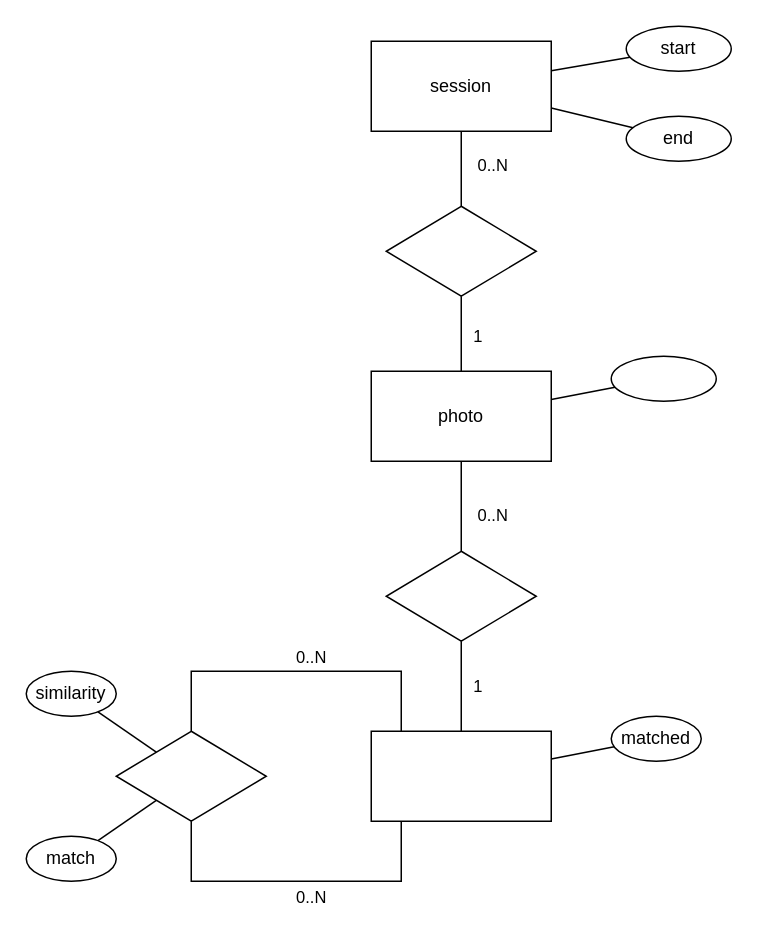
Image size: 758x933. Some labels were removed from this diagram. Here are the shapes that lost their labels. From the top down, the centre of each, then its label:
point 663,378: time
point 190,775: comparison
point 460,775: face
